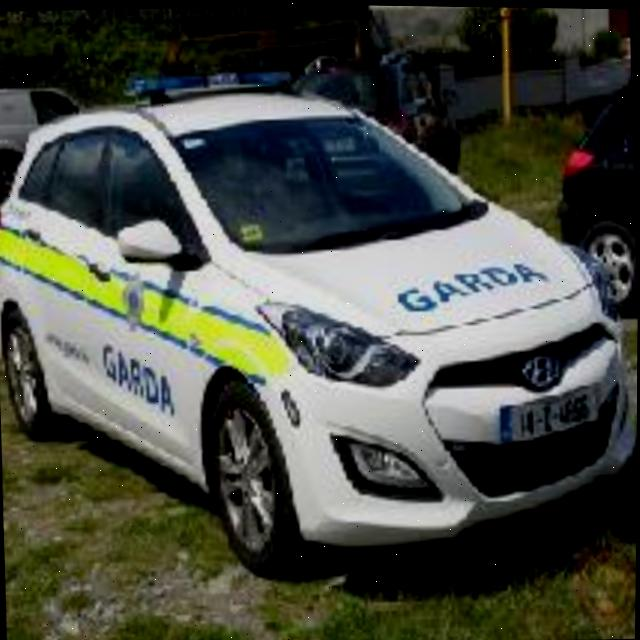emergency: (0, 58, 640, 574)
